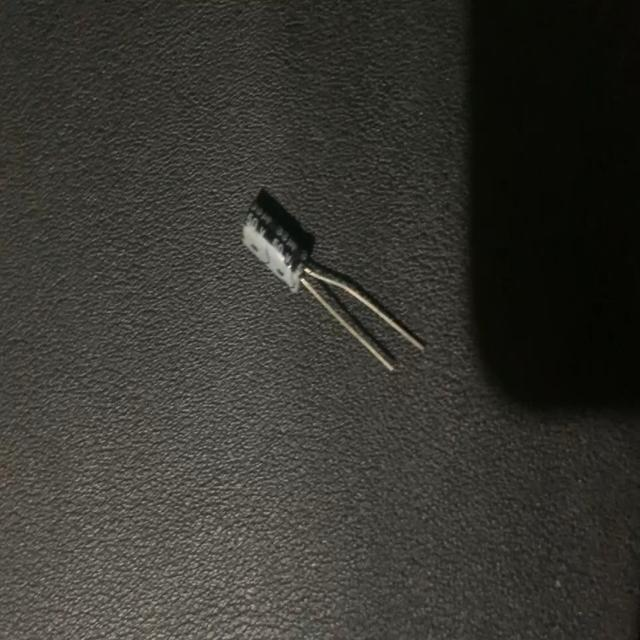capacitor: (238, 185, 428, 378)
